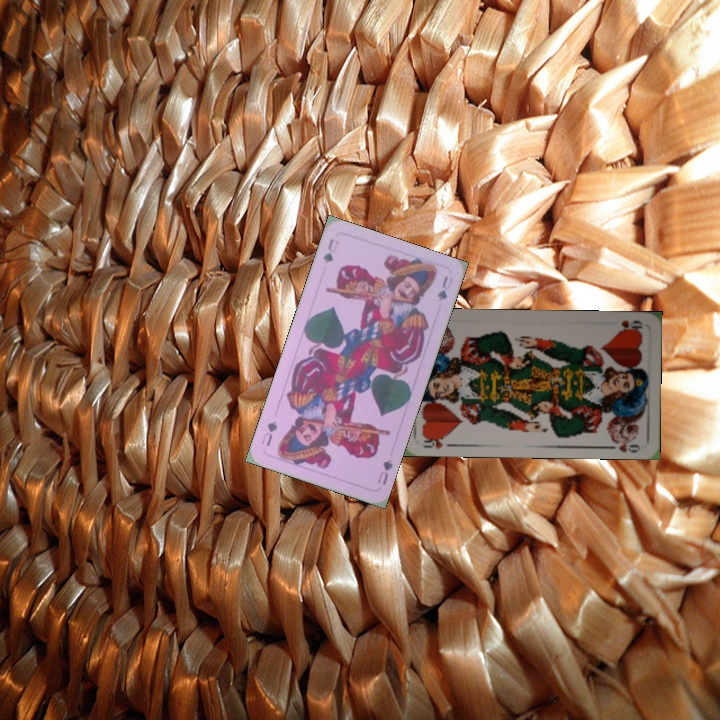GU: (373, 455, 395, 487), (319, 235, 341, 266)
HO: (418, 432, 451, 451), (616, 316, 645, 334)
